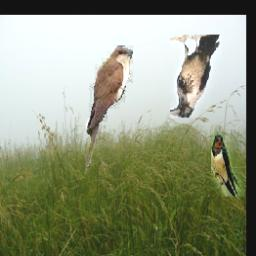Crow: (169, 35, 221, 118)
Cuckoo: (84, 45, 134, 174)
Swallow: (210, 133, 244, 197)
